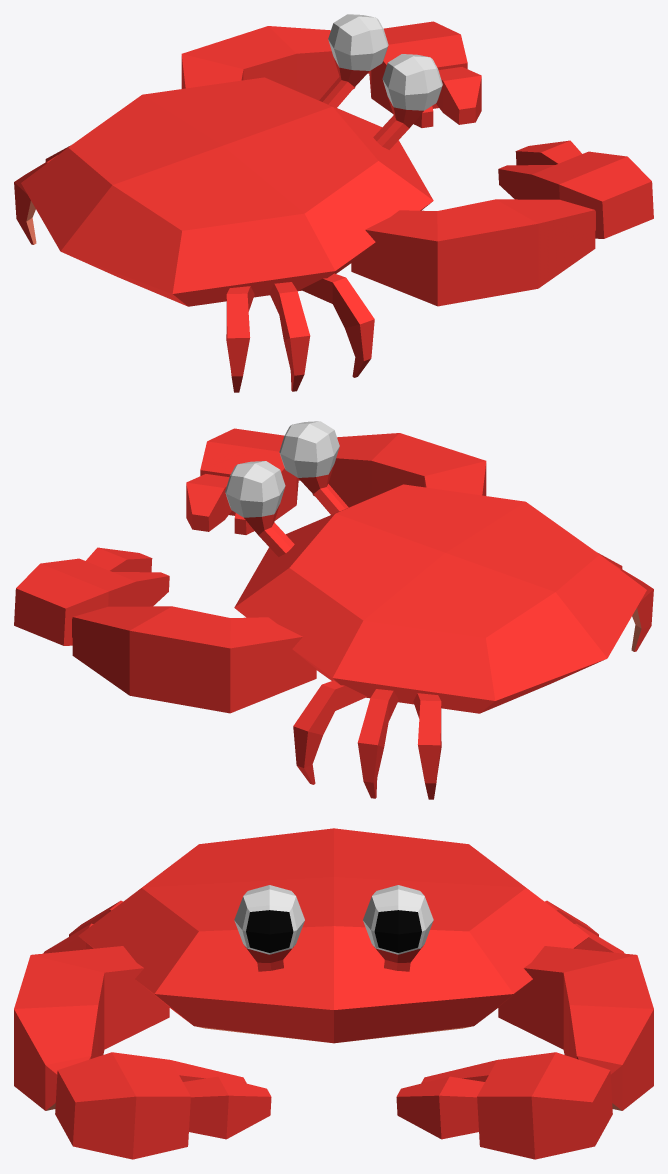
Rendered from crab_legs.fbx.
3 renders of one model, top to bottom at view 1: azimuth 30°, elevation 25°; view 2: azimuth 150°, elevation 25°; view 3: azimuth 270°, elevation 25°, orthographic. The views are drawn at different scales.
Parts seen in each view (by area): view 1: Body, Legs; view 2: Body, Legs; view 3: Body, Legs.
Boxes of the visible parts, x1=… form: Body: x1=21, y1=14, x2=653, y2=306; Legs: x1=14, y1=145, x2=374, y2=392; Body: x1=14, y1=421, x2=646, y2=713; Legs: x1=293, y1=552, x2=653, y2=799; Body: x1=14, y1=828, x2=653, y2=1159; Legs: x1=43, y1=900, x2=624, y2=953.
Size of the model in its own units: 438 by 190 by 423.
